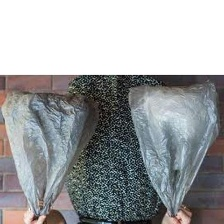plastic_bag: (123, 78, 222, 222), (0, 85, 100, 223)
